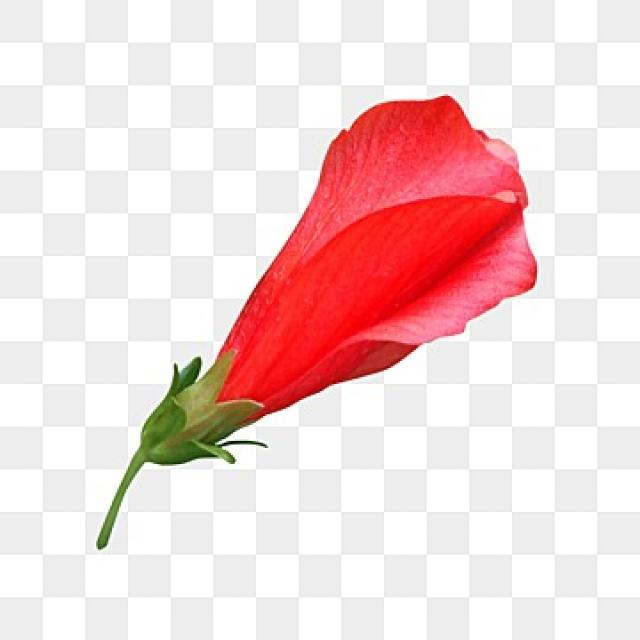Flower: (80, 91, 539, 560)
